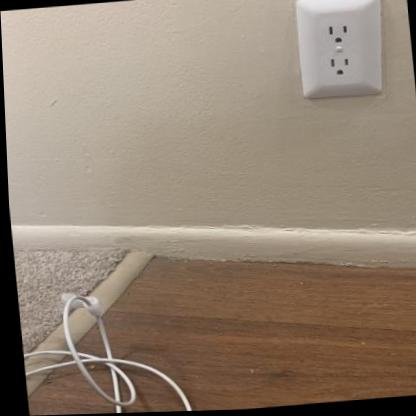OUTLET: (293, 0, 391, 102)
